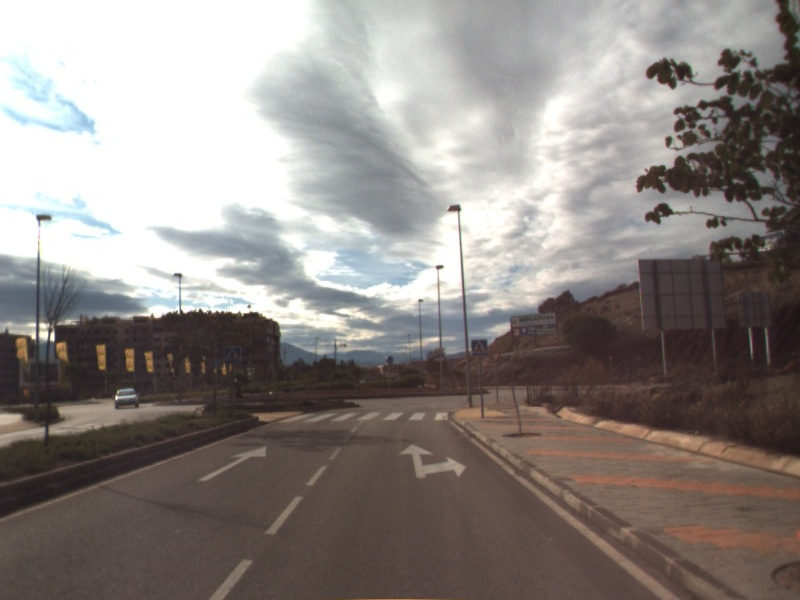STRAIGHT: (195, 444, 268, 483)
STRAIGHT_RIGHT: (398, 441, 468, 480)
